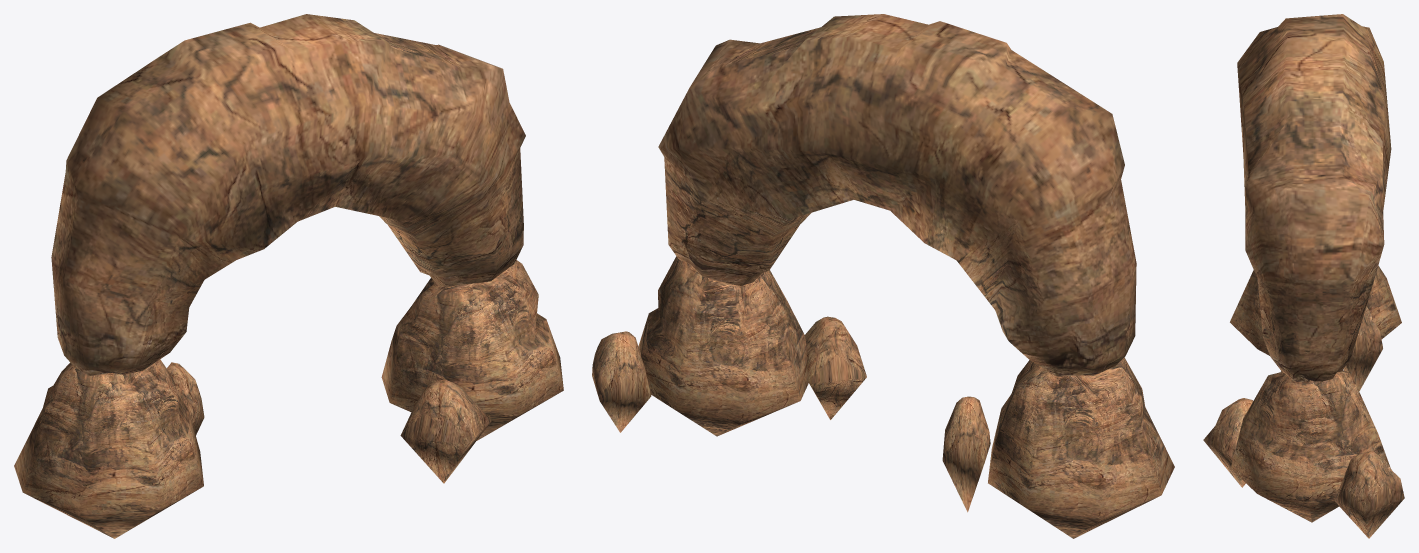
Rendered from rock_tatt_arch_med_l2.fbx.
The picture shows the model from 3 angles, left to right: view 1: azimuth 30°, elevation 25°; view 2: azimuth 150°, elevation 25°; view 3: azimuth 270°, elevation 25°; orthographic projection. The views are drawn at different scales.
Visible parts, largest first — view 1: mesh_node; view 2: mesh_node; view 3: mesh_node.
Boxes of the visible parts, <box> form: mesh_node: <box>14,14,563,538</box>; mesh_node: <box>592,14,1174,538</box>; mesh_node: <box>1203,14,1404,538</box>.
Size of the model in its own units: 52.02 by 42.81 by 19.31.
